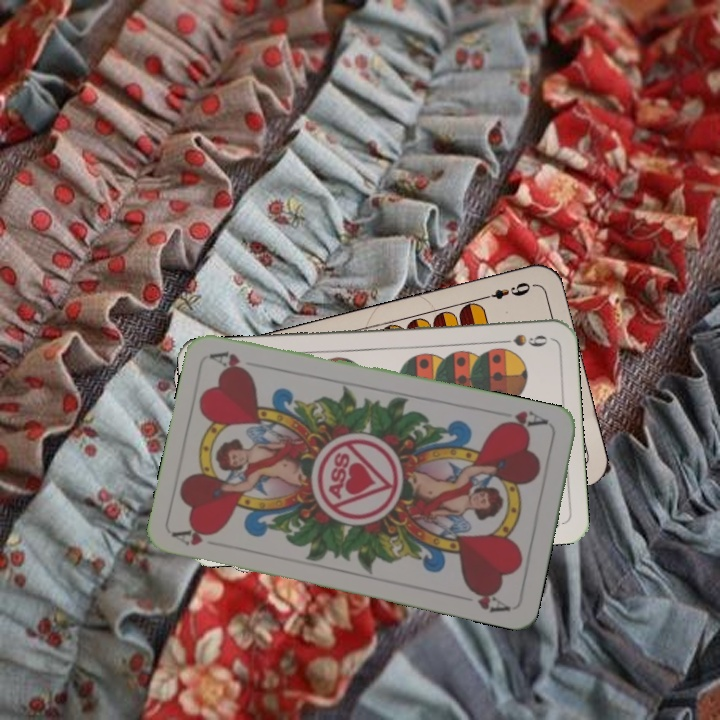E9: (478, 278, 536, 303)
HA: (495, 406, 551, 434), (170, 522, 220, 548)
S9: (492, 330, 550, 350)
